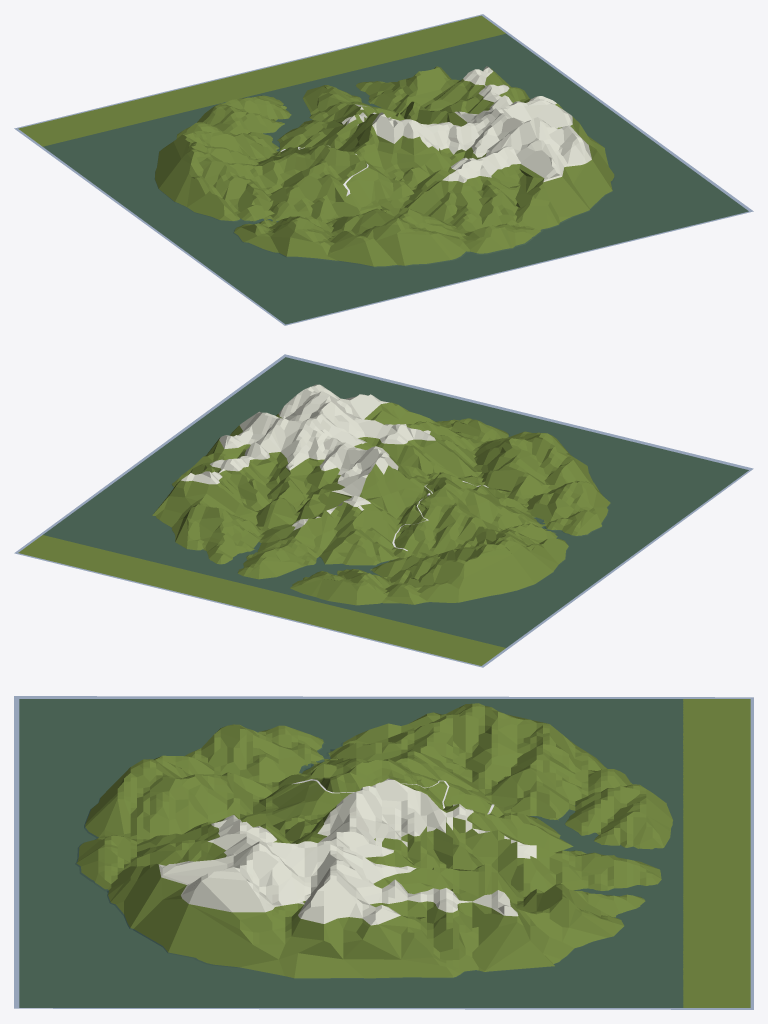
Rendered from soliru-mountains-house.fbx.
3 renders of one model, top to bottom at view 1: azimuth 30°, elevation 25°; view 2: azimuth 150°, elevation 25°; view 3: azimuth 270°, elevation 25°, orthographic. The views are drawn at different scales.
Parts seen in each view (by area): view 1: Mountains, sea; view 2: Mountains, sea; view 3: Mountains, sea.
Boxes of the visible parts, x1,y1,x2,y2 form: Mountains: (18,15,748,324); sea: (14,14,753,325); Mountains: (18,357,748,665); sea: (15,354,752,667); Mountains: (19,699,750,1007); sea: (14,696,753,1009).
Size of the model in its own units: 1405 by 198 by 1405.
